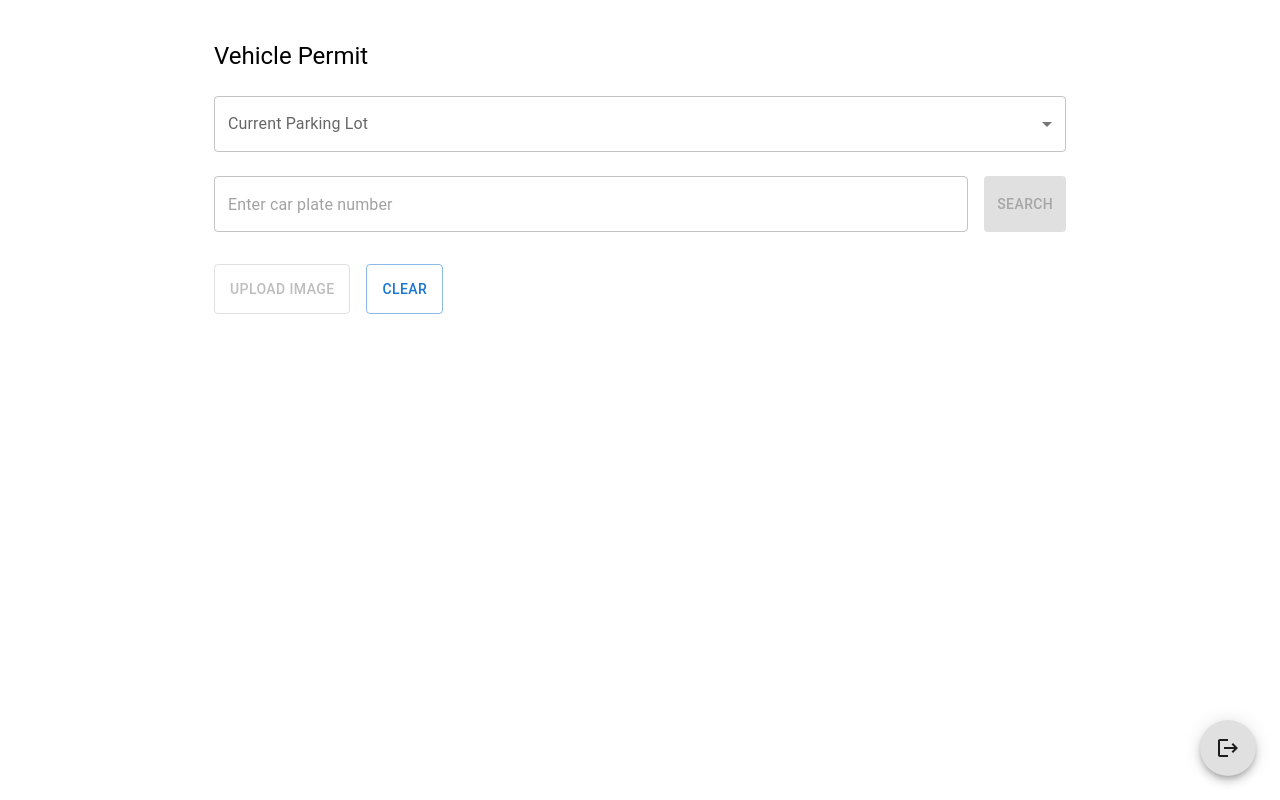
Test: should show a error saying please enter a carplate number
Click the dropdown named "Current Parking Lot" at coordinates (640, 124), box [214,96,1066,152]
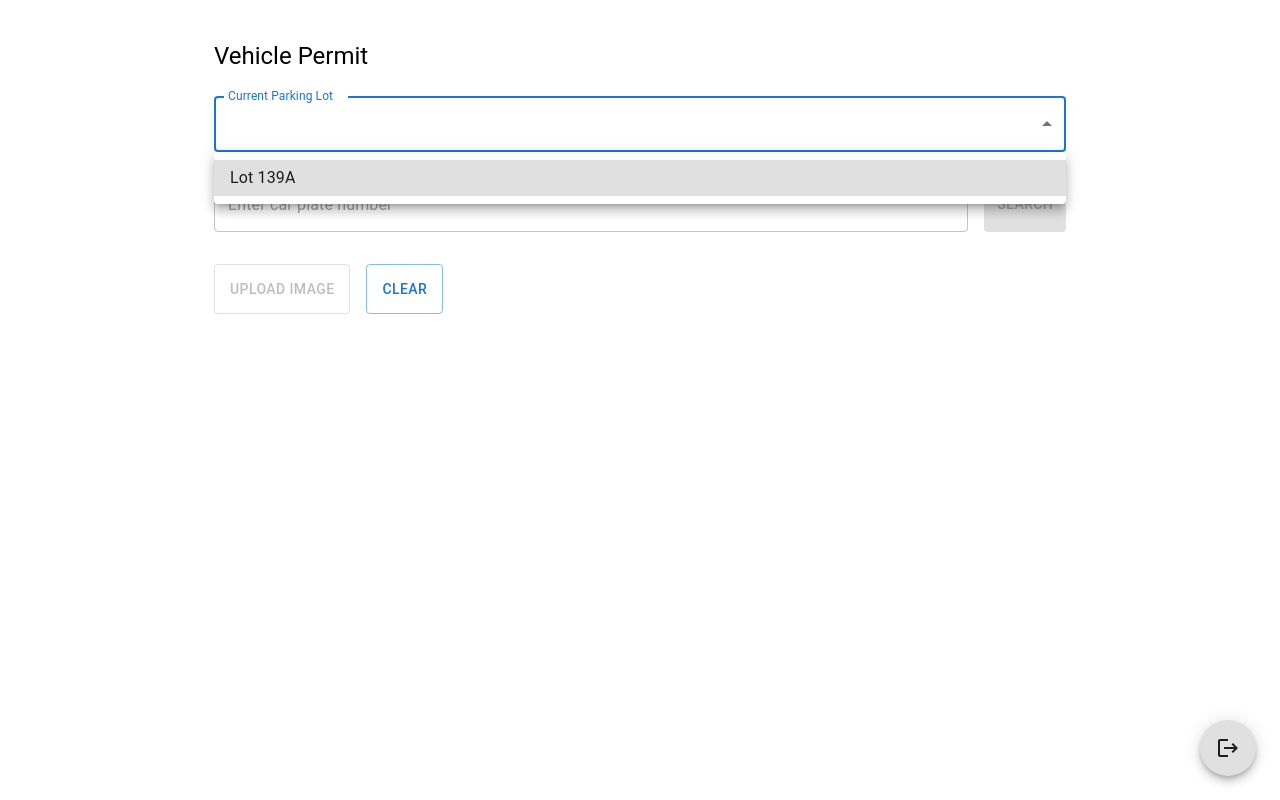
Click the option "Lot 139A" at coordinates (263, 178), box [214,160,1066,196]
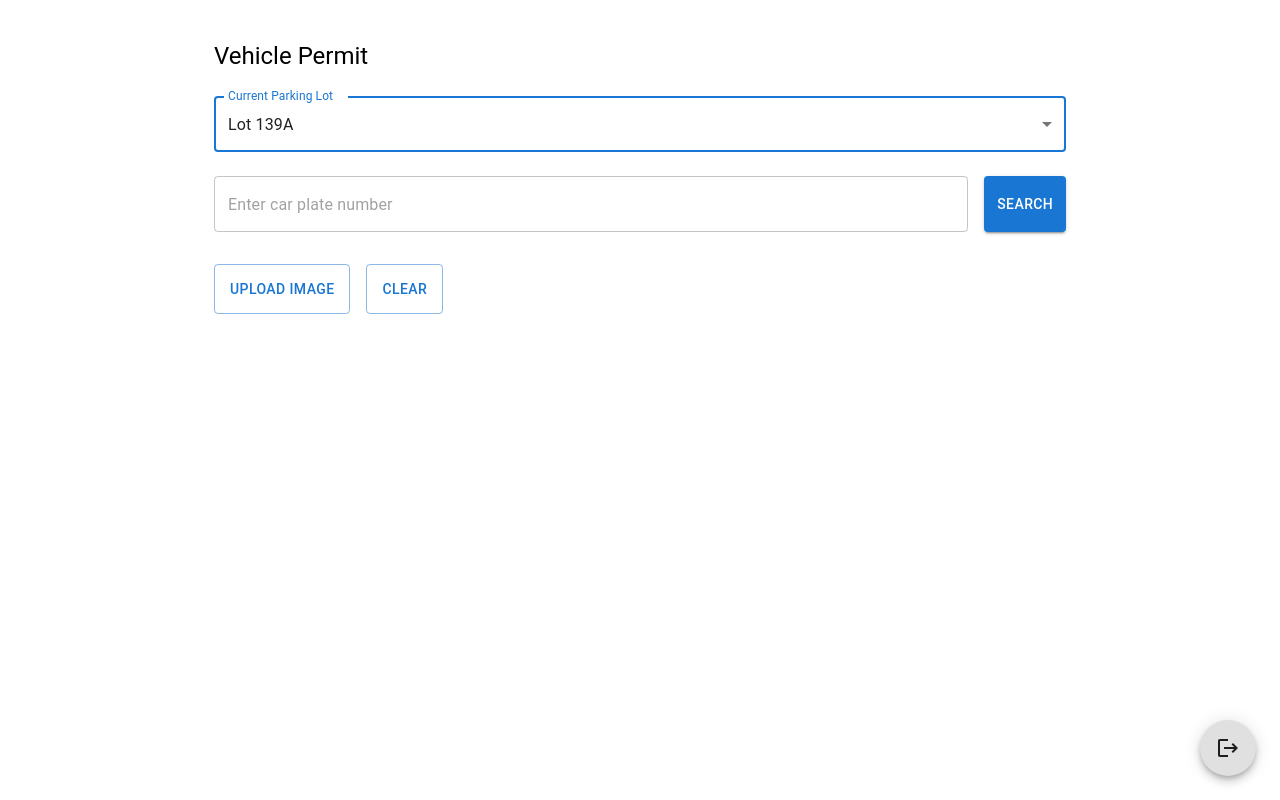
Click the field with placeholder "Enter car plate number" at coordinates (591, 204), box [214,176,968,232]
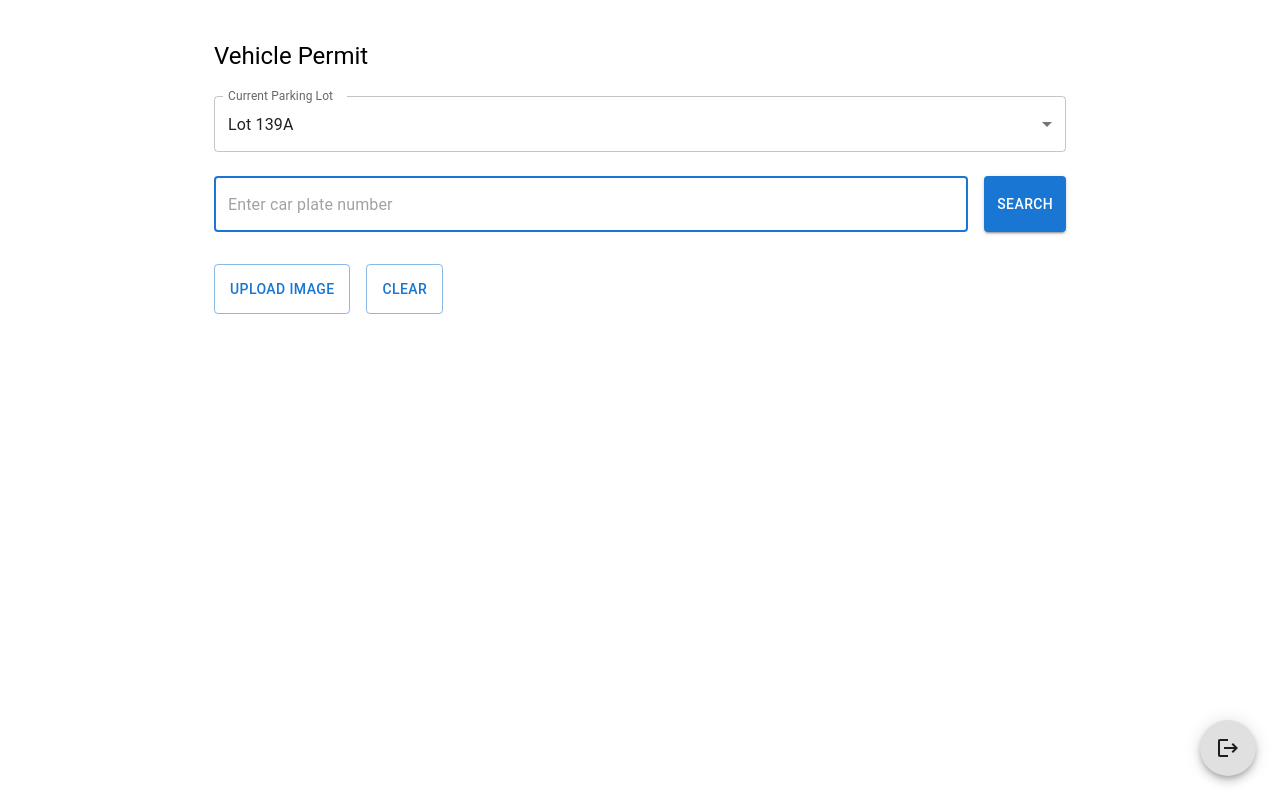
Press Tab
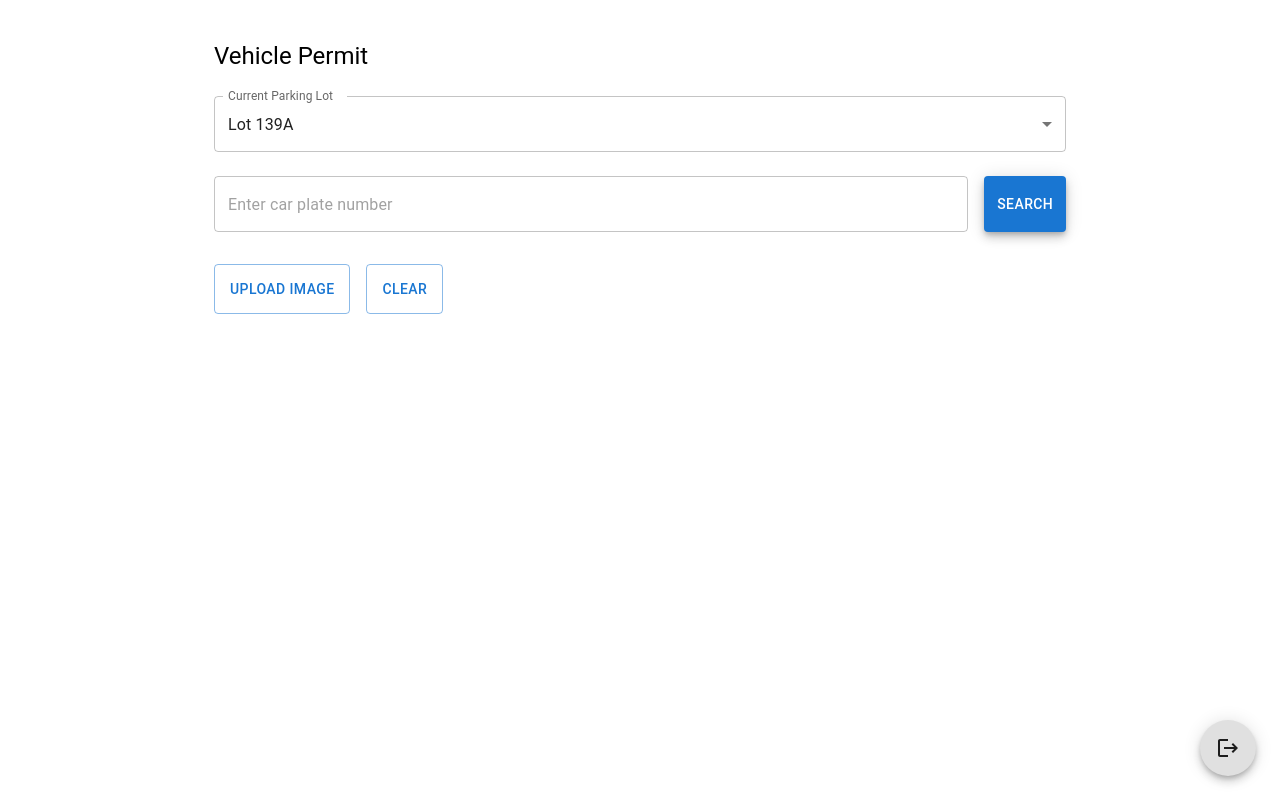
Press Tab
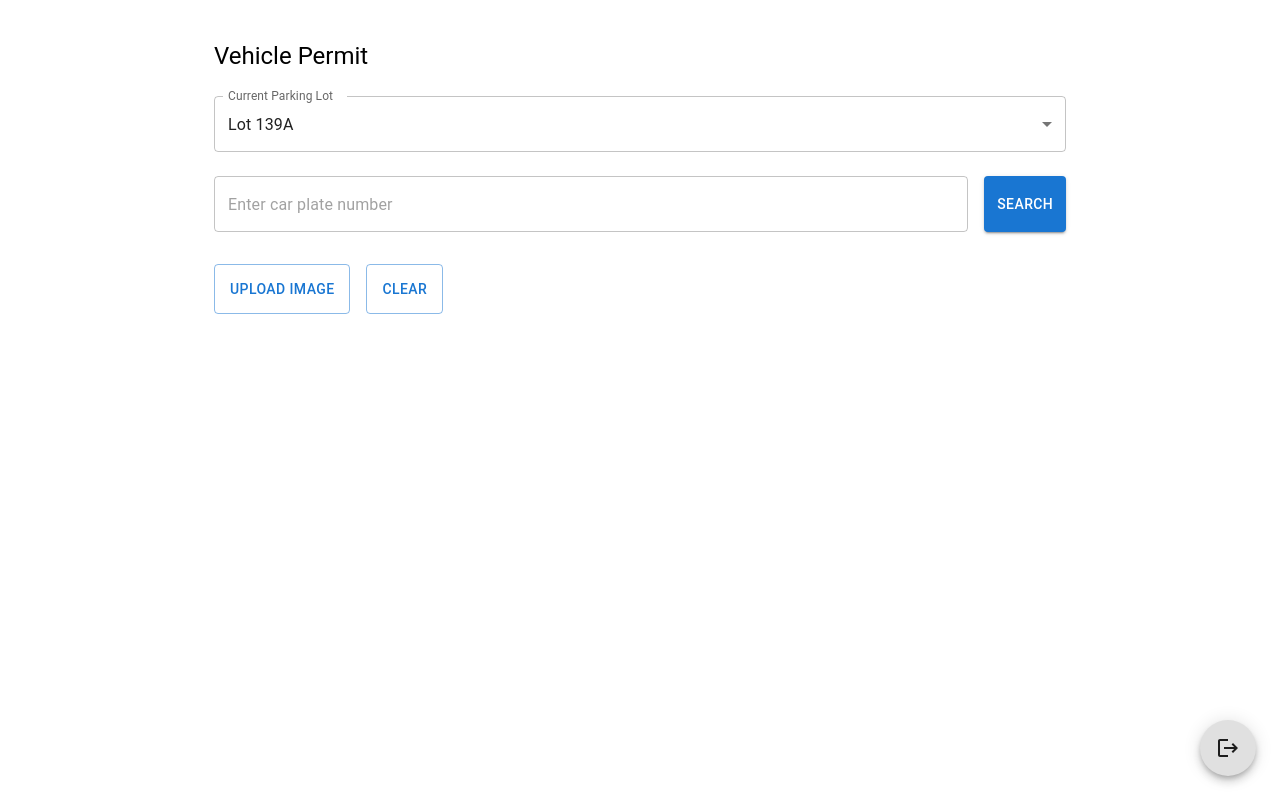
Click the button "Search" at coordinates (1025, 204), box [984,176,1066,232]
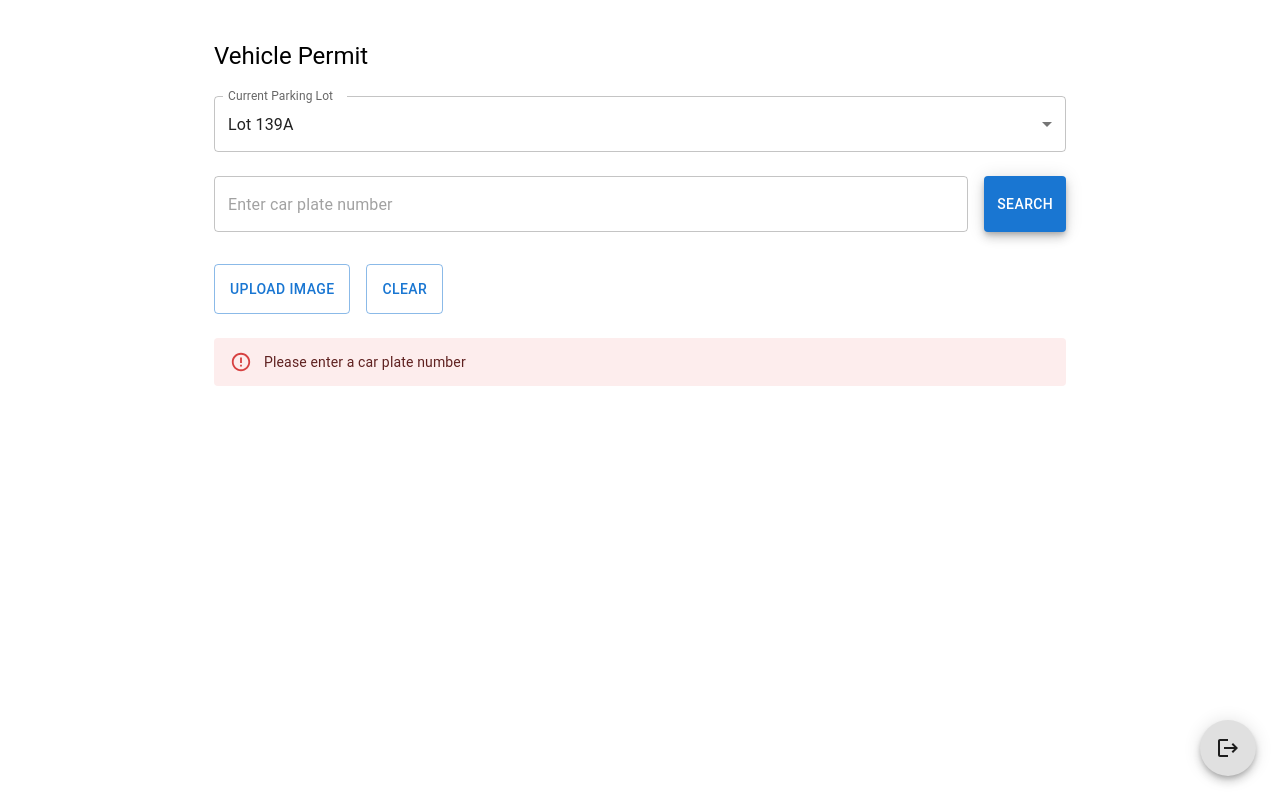
Check: the text "Please enter a car plate number" is shown, box [264,354,466,370]
